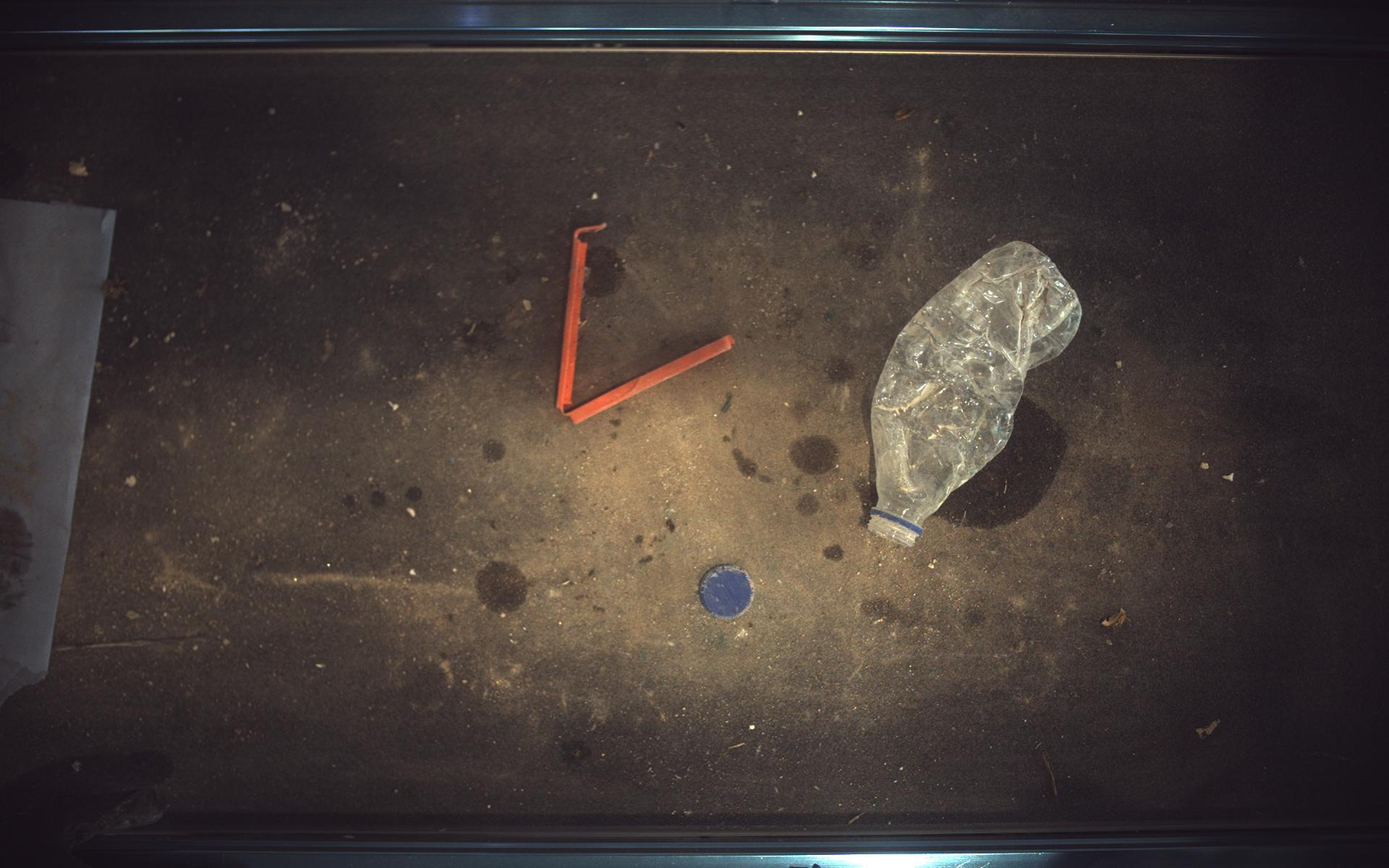general_w: (871, 241, 1084, 546), (556, 222, 736, 424), (700, 567, 755, 620)
